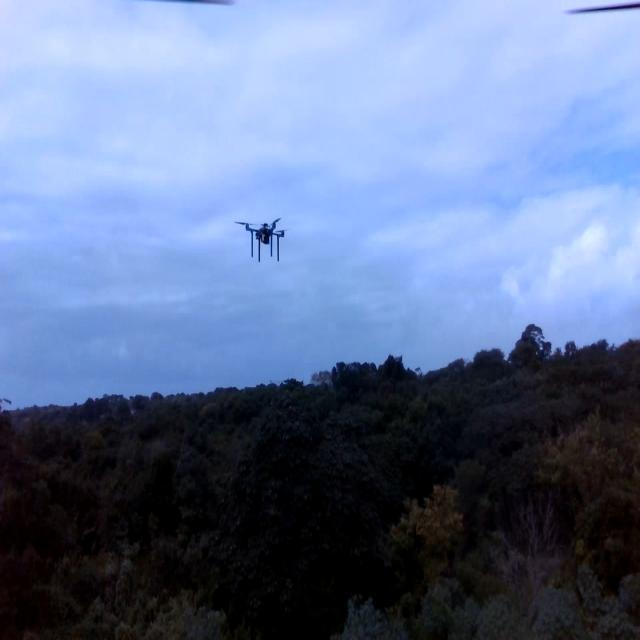-uav-: (229, 208, 296, 284)
